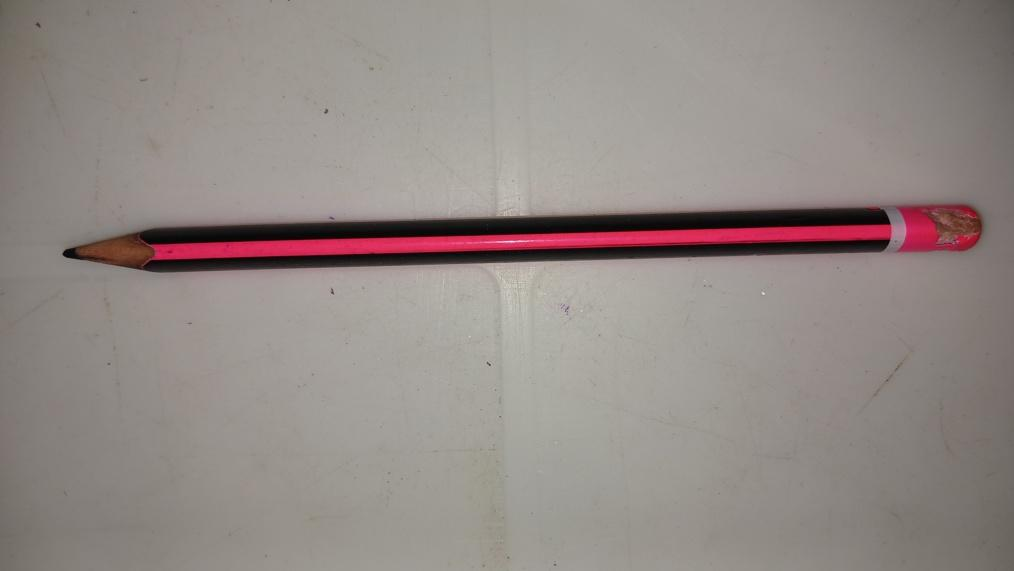Pencil: (57, 202, 983, 272)
